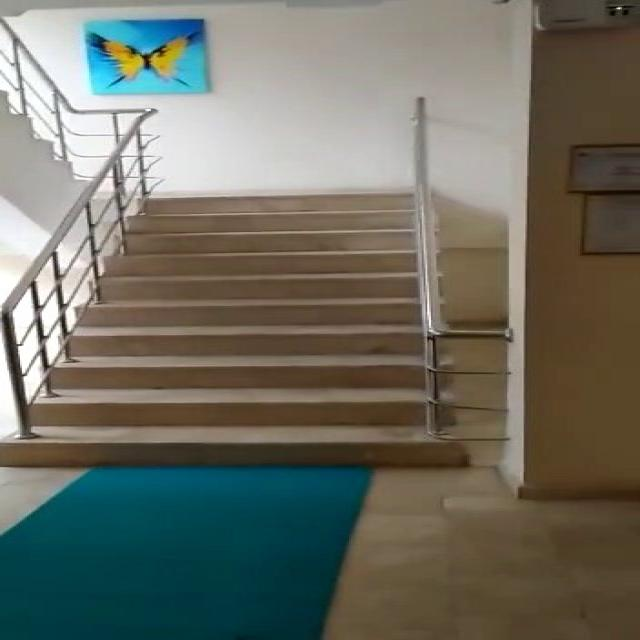upstair: (87, 171, 472, 470)
